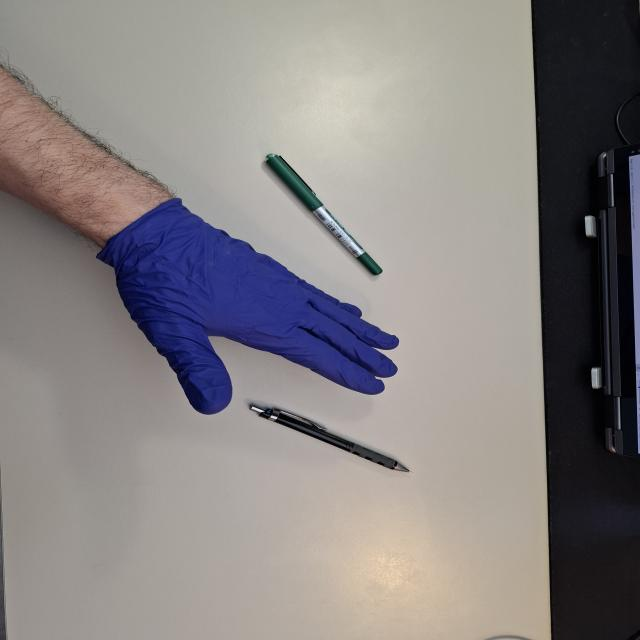glove_on: (100, 195, 406, 417)
